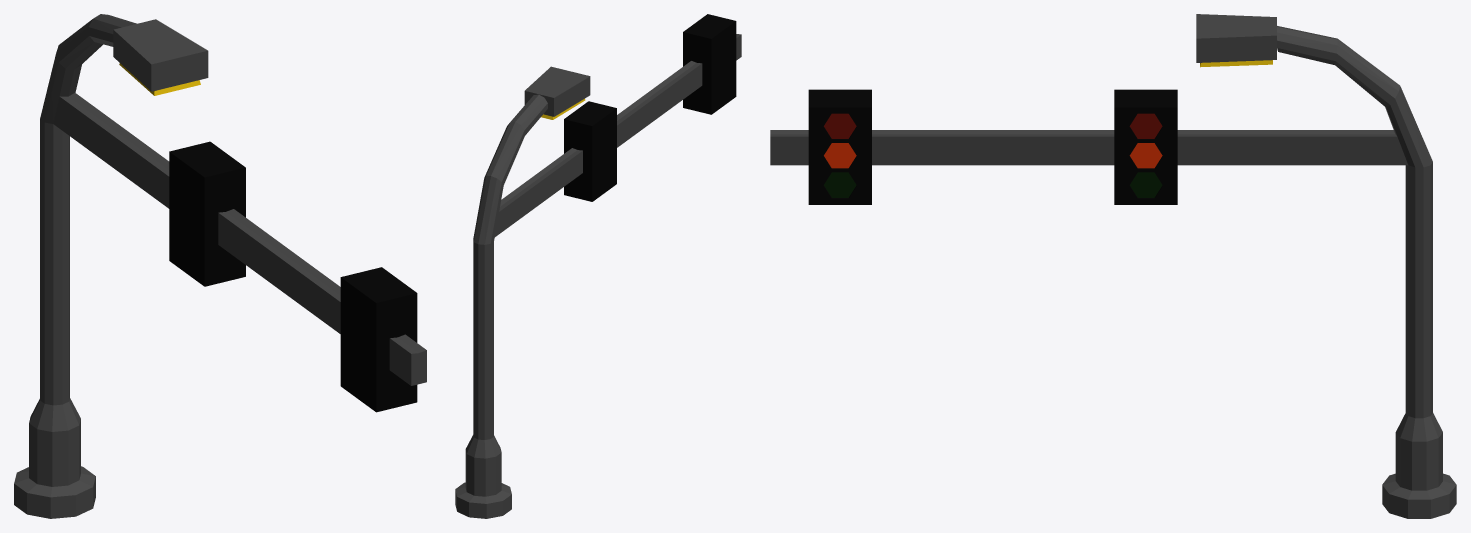
File: TraficLight_02.obj
The picture shows the model from 3 angles, left to right: view 1: azimuth 30°, elevation 25°; view 2: azimuth 150°, elevation 25°; view 3: azimuth 270°, elevation 25°; orthographic projection. The views are drawn at different scales.
Visible parts, largest first — view 1: TraficLight_02_Cube.045; view 2: TraficLight_02_Cube.045; view 3: TraficLight_02_Cube.045.
Boxes of the visible parts, x1,y1,x2,y2 form: TraficLight_02_Cube.045: (14,14,426,518); TraficLight_02_Cube.045: (455,14,741,518); TraficLight_02_Cube.045: (770,14,1456,518).
Bounding box in the file's own units: 6.49 × 48.24 × 62.82.
